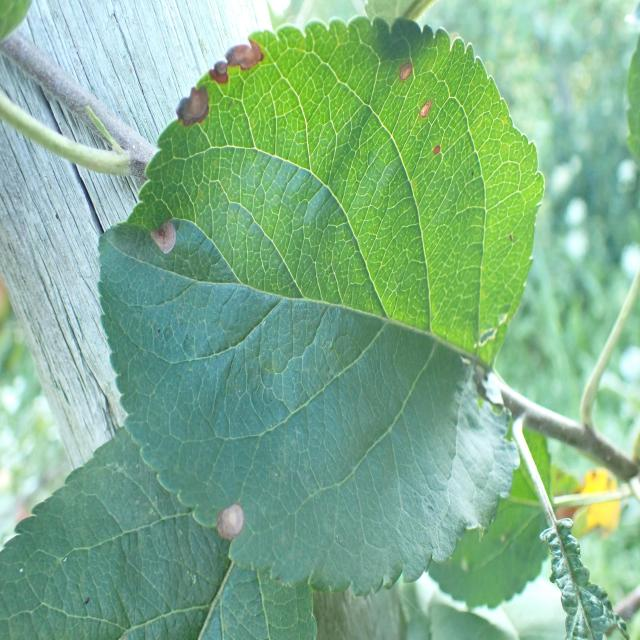Black Rot: (212, 21, 272, 120), (128, 207, 192, 270), (167, 76, 214, 140), (200, 496, 250, 546), (410, 96, 435, 128), (393, 57, 421, 84)
